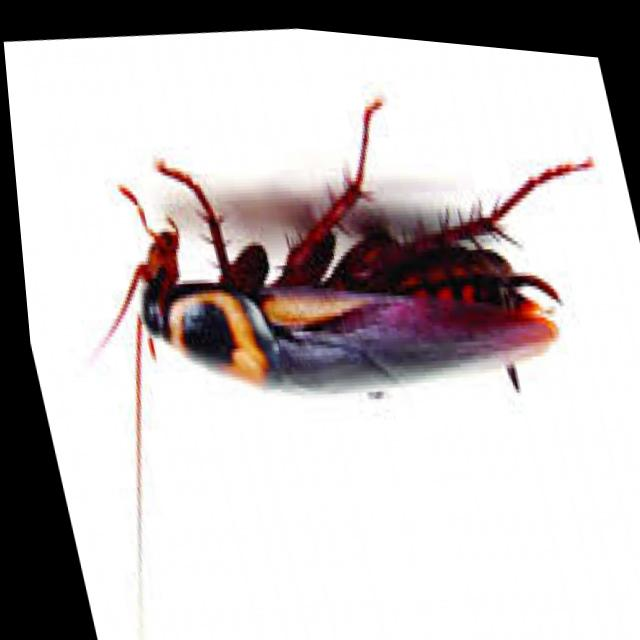Cockroach: (1, 16, 640, 640)
